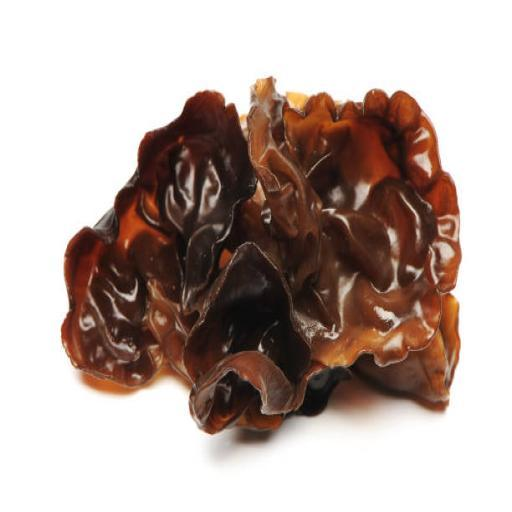mushroom: (53, 67, 473, 458)
